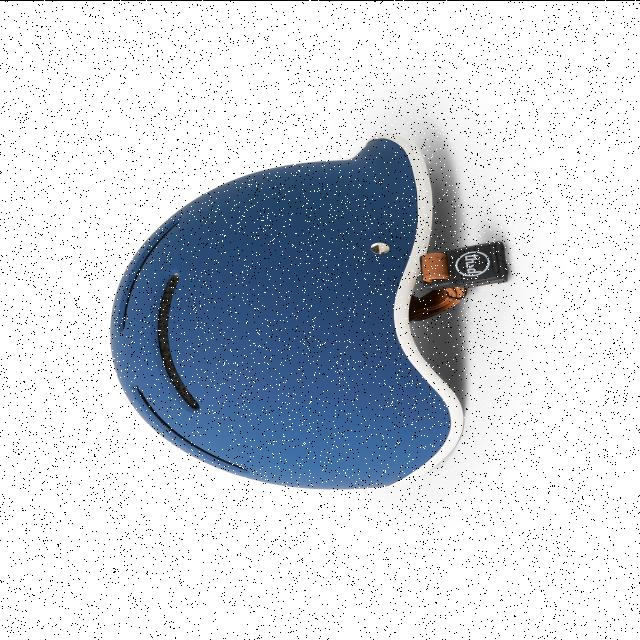Helmet: (102, 106, 469, 530)
